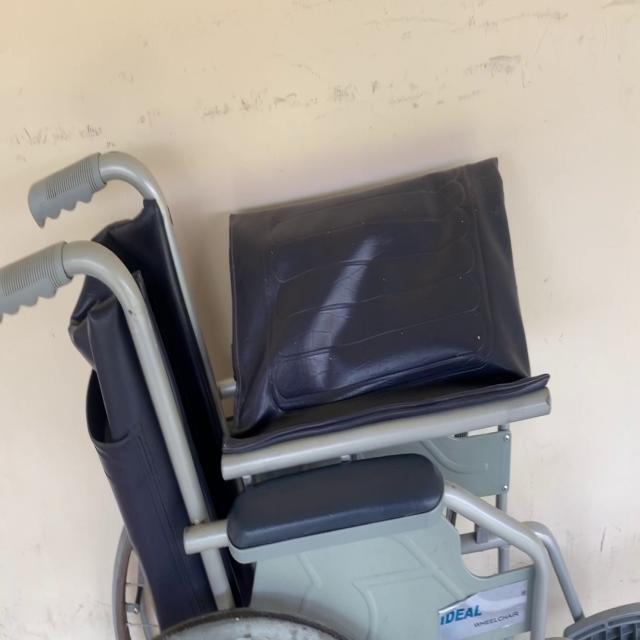wheelchair: (0, 118, 639, 640)
